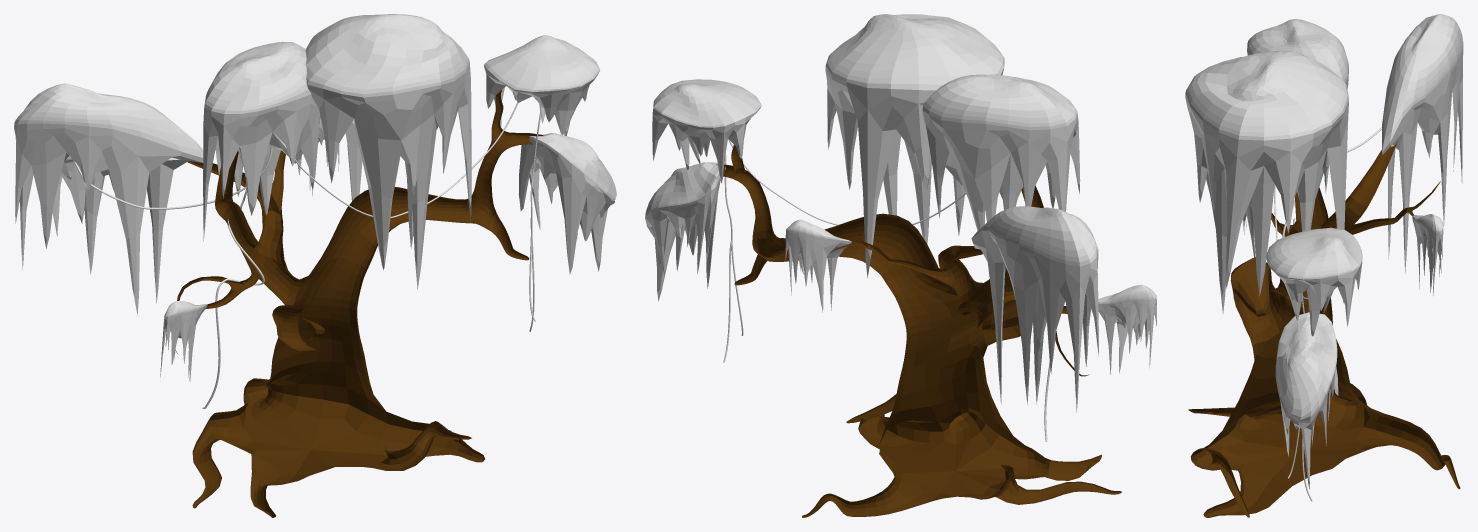
The model's file is willowVines.fbx.
3 renders of one model, left to right at view 1: azimuth 30°, elevation 25°; view 2: azimuth 150°, elevation 25°; view 3: azimuth 270°, elevation 25°, orthographic.
Visible parts, largest first — view 1: BezierCurve.003; view 2: BezierCurve.003; view 3: BezierCurve.003.
Boxes of the visible parts, x1,y1,x2,y2 form: BezierCurve.003: [14, 14, 616, 517]; BezierCurve.003: [645, 14, 1156, 517]; BezierCurve.003: [1185, 14, 1463, 517].
Bounding box in the file's own units: 85202 × 68025 × 39691.
